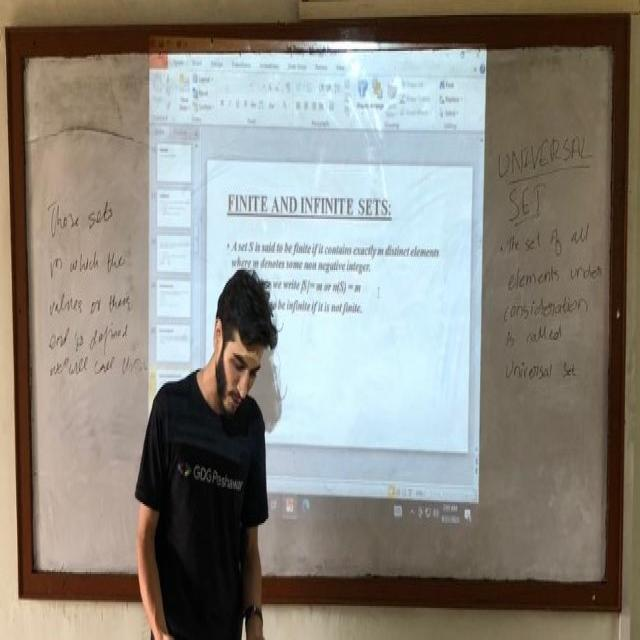Instructor: (157, 232, 271, 640)
Slide: (142, 46, 489, 539)
White-board: (13, 32, 623, 608)
